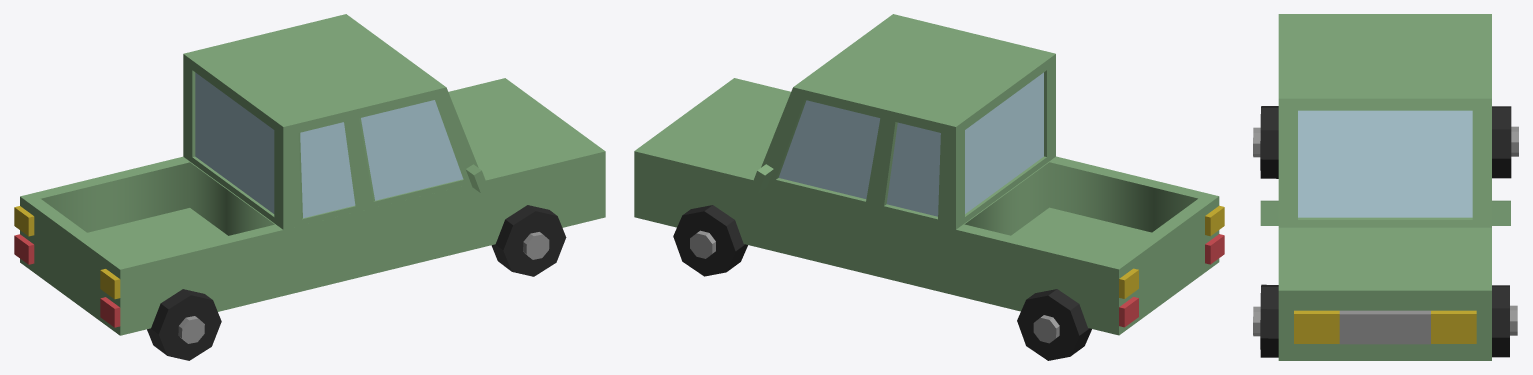
File: Van.fbx
The picture shows the model from 3 angles, left to right: view 1: azimuth 30°, elevation 25°; view 2: azimuth 150°, elevation 25°; view 3: azimuth 270°, elevation 25°; orthographic projection. The views are drawn at different scales.
Visible parts, largest first — view 1: Body, Wheel0, Wheel1; view 2: Body, Wheel3, Wheel2; view 3: Body, Wheel3, Wheel0, Wheel1, Wheel2.
Part boxes in pixels (<box>): Body: <box>14,14,605,335</box>; Wheel0: <box>491,205,566,276</box>; Wheel1: <box>147,289,221,360</box>; Body: <box>634,14,1224,335</box>; Wheel3: <box>1017,289,1091,360</box>; Wheel2: <box>673,205,747,276</box>; Body: <box>1260,14,1510,360</box>; Wheel3: <box>1492,106,1518,178</box>; Wheel0: <box>1253,284,1278,357</box>; Wheel1: <box>1253,106,1278,178</box>; Wheel2: <box>1492,285,1517,357</box>.
Size of what is drawn, in the model's own units: 573 by 223 by 249.
